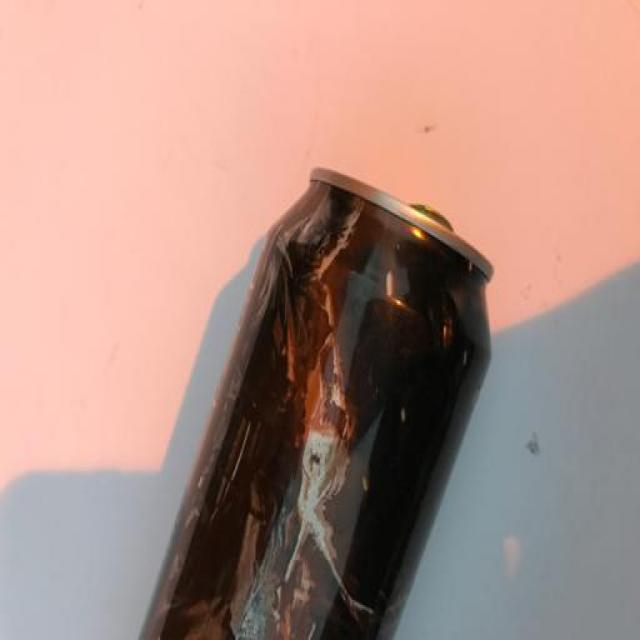metel: (164, 262, 523, 640)
